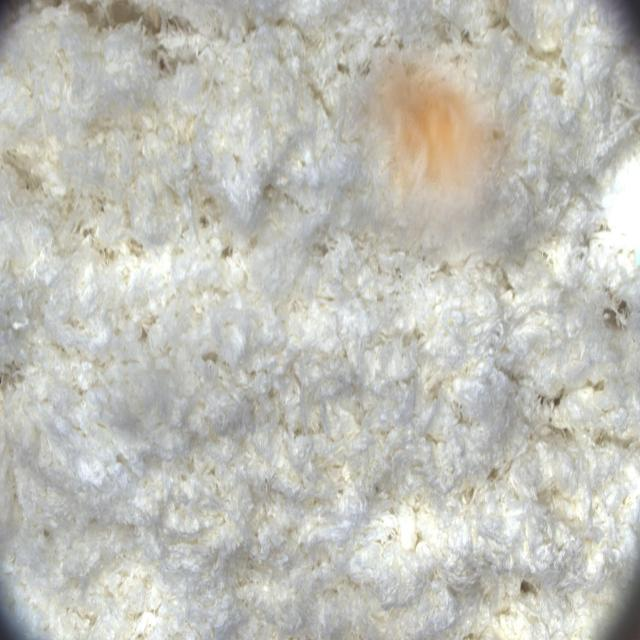dust: (340, 42, 525, 275)
